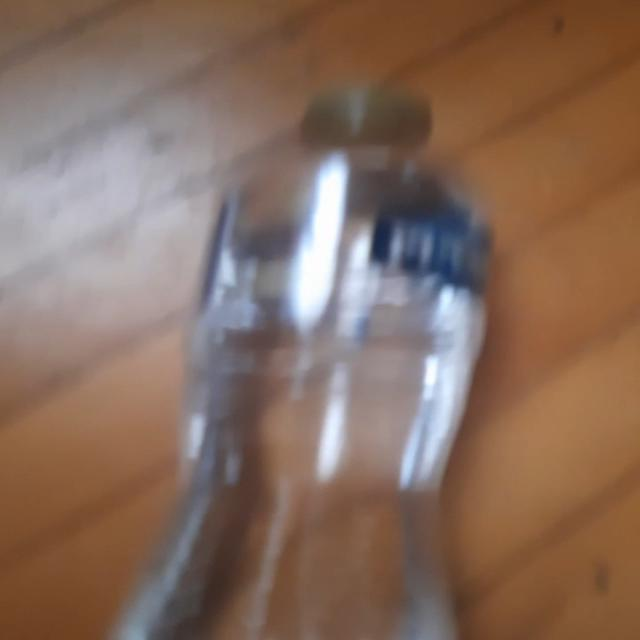Plastic: (103, 86, 493, 640)
